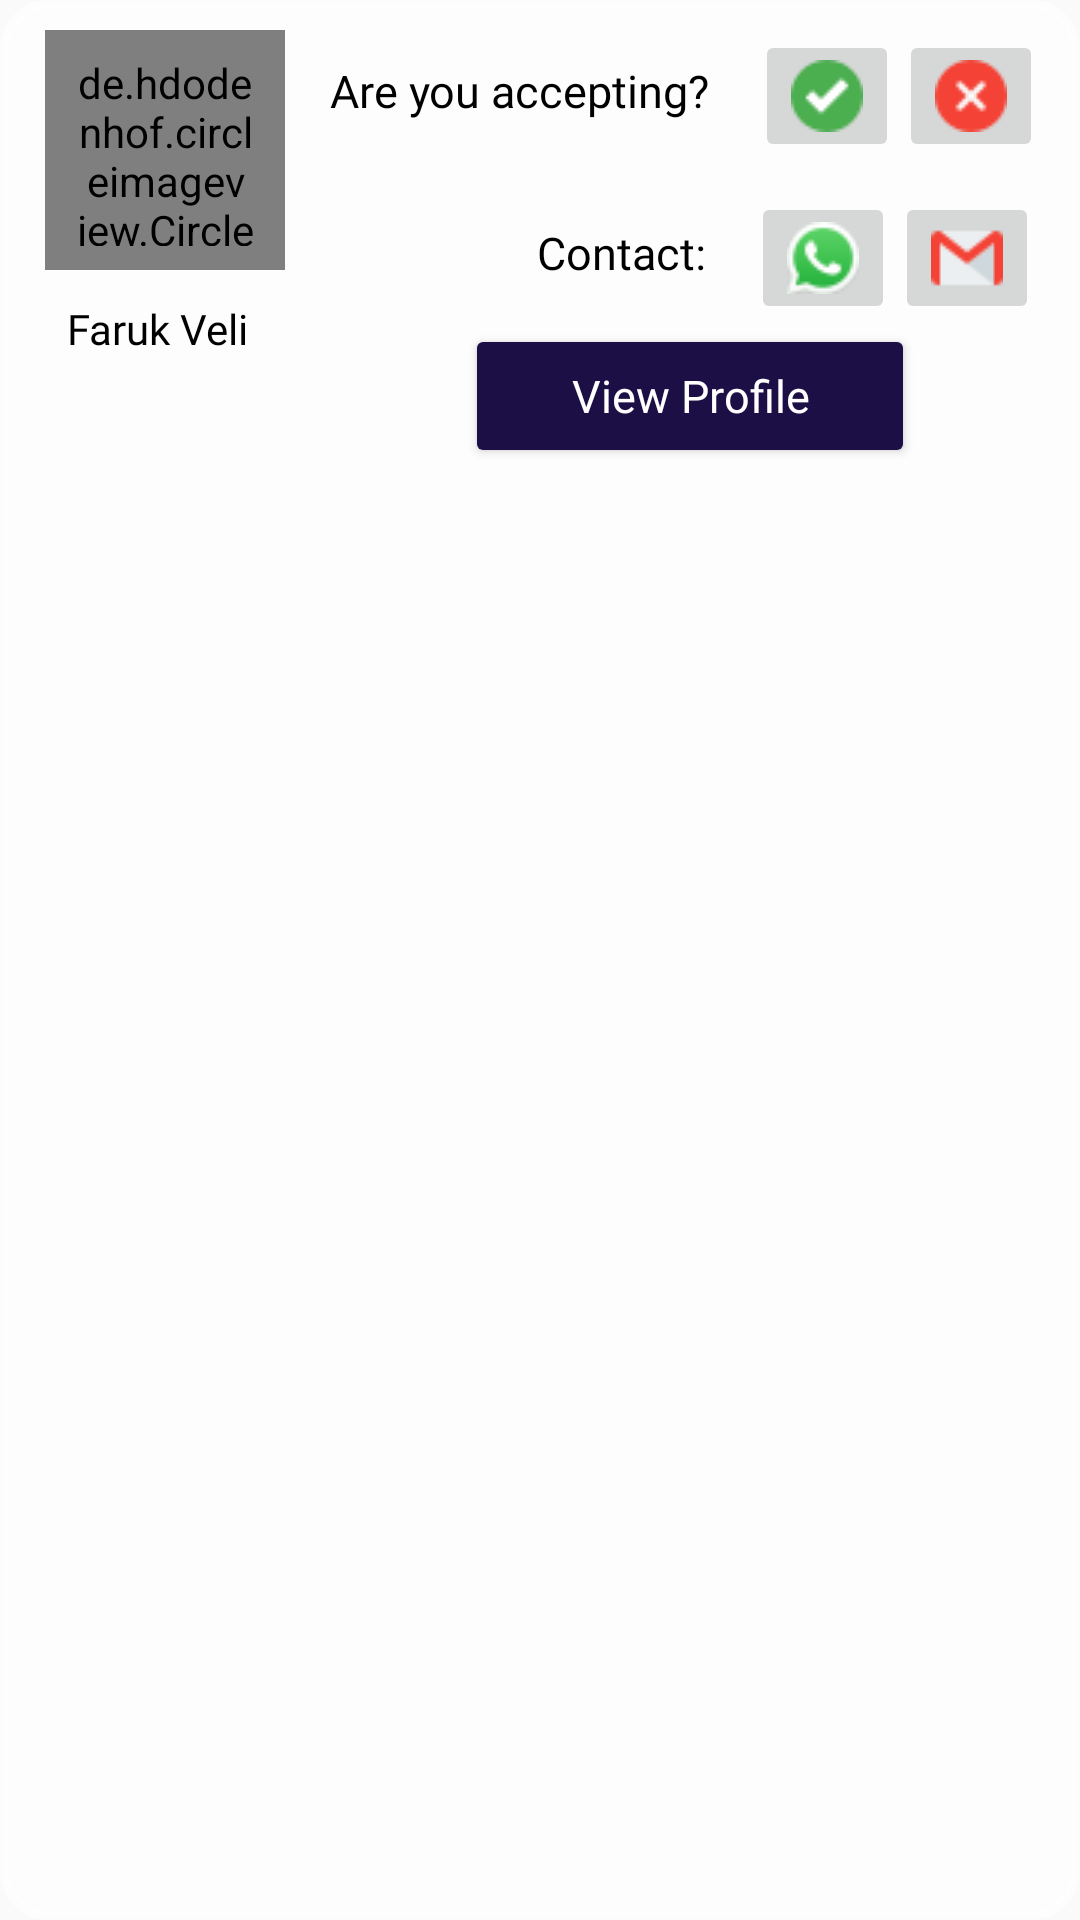

Point at icon controls on the screen. Image size 1080 x 1920, points as [x,y].
remove: [971,96]
